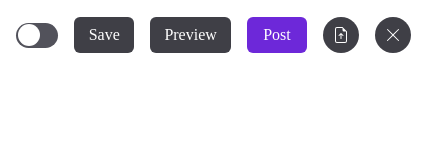
Test: components/article-controls › should hide controls on button click
Click the button named "toggle controls visibility". click: (393, 35)
box: [375,17,411,53]
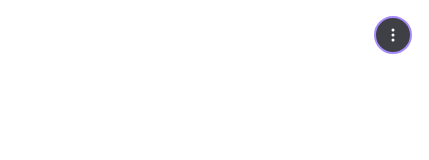
Expected: the element with test id "controls-container" is gone
